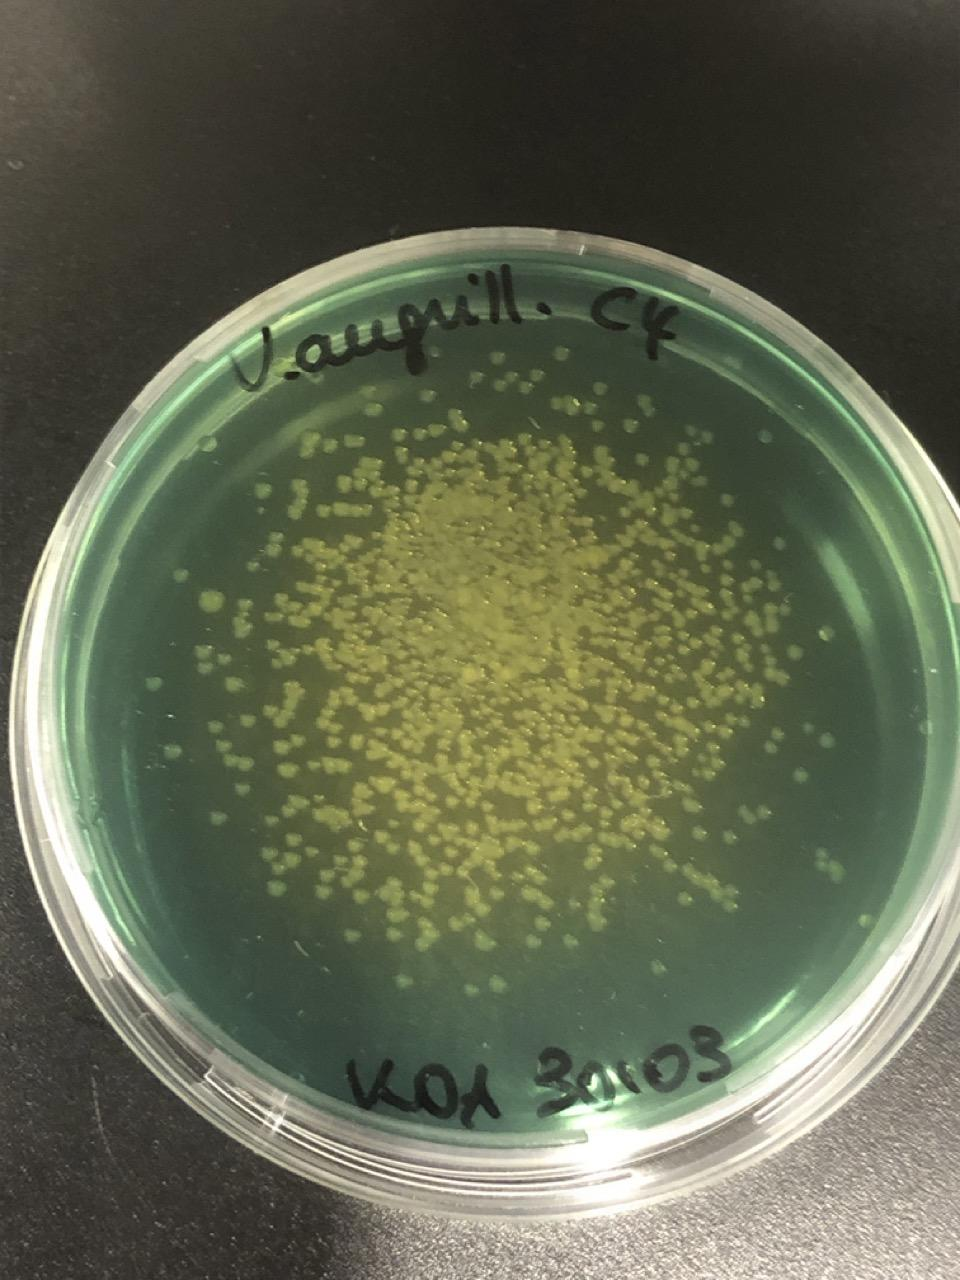vangil: (745, 602, 794, 639), (690, 740, 726, 783), (491, 368, 545, 395), (758, 640, 790, 686), (407, 868, 438, 909), (717, 711, 753, 742), (316, 707, 343, 747), (734, 678, 764, 710), (511, 862, 547, 886), (389, 720, 414, 753), (761, 725, 787, 757), (373, 829, 402, 857), (357, 700, 389, 725), (693, 539, 713, 575), (740, 803, 772, 825), (676, 629, 702, 656), (415, 916, 436, 951), (198, 589, 224, 613), (297, 430, 319, 460), (448, 407, 471, 433), (411, 422, 443, 441), (700, 646, 721, 674), (644, 652, 667, 678), (440, 862, 470, 880), (734, 650, 756, 674), (663, 669, 691, 686), (412, 783, 438, 802), (408, 841, 427, 867), (764, 567, 783, 594), (718, 572, 734, 602), (583, 844, 600, 871), (350, 855, 366, 882), (580, 788, 595, 814), (739, 580, 754, 606), (335, 474, 353, 492), (343, 928, 359, 945), (385, 925, 401, 942), (722, 898, 738, 915), (814, 845, 830, 862), (560, 806, 576, 823), (165, 742, 182, 759), (273, 739, 289, 756), (801, 721, 817, 738), (240, 713, 256, 730), (262, 702, 278, 720), (225, 675, 241, 692), (144, 674, 160, 691), (197, 660, 213, 677), (196, 642, 212, 659), (265, 541, 281, 558), (720, 492, 736, 509), (578, 463, 594, 480), (633, 452, 649, 469), (321, 436, 337, 454), (391, 425, 407, 442), (622, 416, 638, 433), (366, 400, 382, 417), (554, 346, 570, 363), (675, 891, 691, 907), (489, 885, 505, 901), (315, 885, 331, 901), (793, 767, 809, 783), (730, 630, 746, 646), (818, 626, 834, 642), (315, 502, 331, 518), (663, 858, 678, 875), (305, 844, 320, 861), (290, 731, 306, 748), (788, 643, 803, 660), (757, 427, 772, 444), (421, 387, 436, 404), (490, 976, 506, 991), (525, 934, 542, 949), (562, 933, 578, 948), (267, 880, 283, 895), (318, 867, 334, 882), (270, 862, 286, 877), (285, 852, 302, 867), (260, 847, 276, 862), (722, 829, 738, 845), (443, 794, 459, 809), (279, 762, 294, 778), (215, 739, 231, 754), (819, 733, 835, 748), (701, 719, 717, 734), (216, 650, 232, 665), (550, 395, 566, 410), (489, 350, 505, 365), (235, 779, 249, 796), (650, 959, 666, 975), (534, 915, 550, 930), (828, 862, 843, 877), (212, 810, 227, 825), (208, 720, 223, 735), (172, 568, 188, 584), (772, 535, 788, 550), (286, 503, 302, 518), (254, 483, 269, 498), (516, 431, 531, 446), (285, 833, 302, 847), (693, 826, 709, 841), (238, 757, 254, 771), (404, 478, 417, 495), (476, 902, 490, 917), (355, 890, 369, 905), (594, 445, 608, 461), (591, 417, 605, 432), (443, 845, 457, 859), (632, 825, 646, 840), (465, 820, 479, 835), (264, 813, 278, 827), (395, 800, 409, 814), (479, 799, 493, 813), (312, 791, 326, 805), (337, 759, 351, 773), (626, 734, 640, 748), (603, 734, 617, 748), (601, 711, 615, 725), (671, 701, 685, 716), (576, 697, 590, 712), (269, 656, 283, 670), (634, 644, 648, 658), (265, 636, 279, 650), (720, 607, 734, 621), (676, 564, 690, 579), (749, 558, 763, 572), (721, 555, 735, 569), (722, 534, 736, 548), (350, 433, 364, 447), (701, 431, 715, 445), (593, 381, 607, 395), (523, 887, 536, 901), (334, 853, 347, 867), (525, 841, 538, 855), (348, 839, 361, 853), (387, 816, 401, 829), (599, 805, 612, 819), (280, 805, 293, 819), (526, 802, 539, 816), (306, 758, 319, 772), (645, 755, 658, 769), (373, 725, 386, 739), (537, 720, 551, 734), (619, 715, 632, 729), (654, 709, 668, 723), (688, 696, 701, 711), (655, 692, 669, 707), (686, 607, 699, 621), (294, 580, 308, 594), (619, 557, 632, 571), (664, 549, 677, 563), (689, 521, 702, 535), (679, 506, 693, 519), (669, 491, 682, 505), (686, 459, 699, 473), (666, 459, 679, 473), (677, 443, 691, 457), (427, 833, 440, 846), (411, 819, 425, 833), (588, 757, 601, 770), (351, 734, 363, 748), (718, 685, 730, 699), (709, 624, 721, 638), (437, 739, 450, 751), (617, 506, 630, 518)
